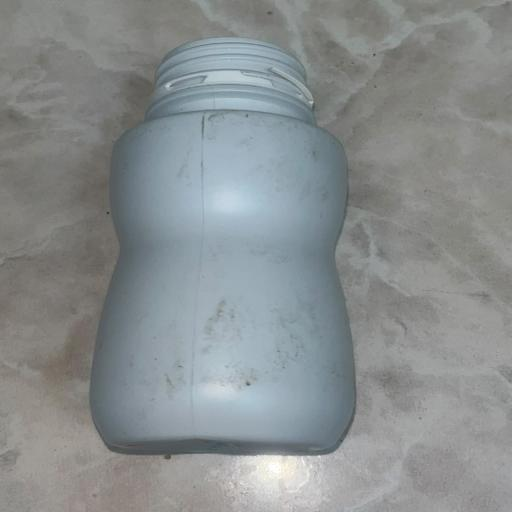HDPE: (48, 21, 416, 466)
